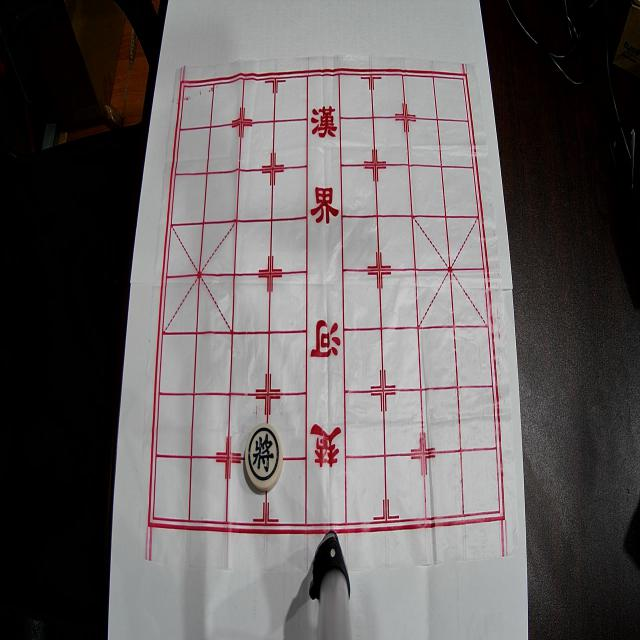black-general: (245, 423, 283, 491)
